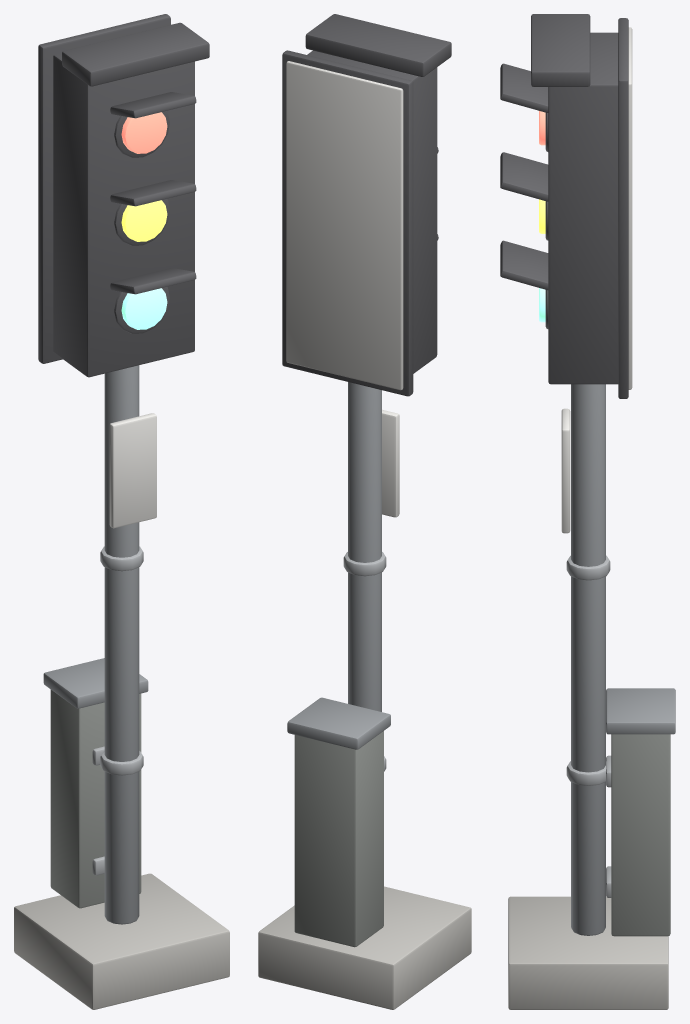
Rendered from th17_signal.glb.
3 renders of one model, left to right at view 1: azimuth 30°, elevation 25°; view 2: azimuth 150°, elevation 25°; view 3: azimuth 270°, elevation 25°, orthographic.
Parts seen in each view (by area): view 1: Cube.001, Cube, Cylinder, Cube.009, Cube.002, Cube.007, Cube.008, Cube.010, Cylinder.003, Cylinder.005, Cylinder.007, Cube.004 (+7 smaller); view 2: Cube.003, Cube.009, Cube, Cylinder, Cube.001, Cube.002, Cube.007, Cube.010, Cube.008, Cylinder.002; view 3: Cube.001, Cylinder, Cube, Cube.009, Cube.007, Cube.002, Cube.010, Cube.005, Cube.006, Cube.003, Cube.004, Cube.008 (+2 smaller).
Boxes of the visible parts, left/top/right/bottom form: Cube.001: left=53, top=52, right=194, bottom=377; Cube: left=14, top=873, right=229, bottom=1009; Cylinder: left=104, top=365, right=139, bottom=924; Cube.009: left=50, top=689, right=141, bottom=908; Cube.002: left=38, top=14, right=170, bottom=363; Cube.007: left=62, top=22, right=209, bottom=86; Cube.008: left=109, top=413, right=156, bottom=528; Cube.010: left=43, top=658, right=148, bottom=708; Cylinder.003: left=121, top=112, right=167, bottom=153; Cylinder.005: left=121, top=200, right=167, bottom=241; Cylinder.007: left=121, top=288, right=167, bottom=329; Cube.004: left=110, top=92, right=196, bottom=118; Cube.003: left=286, top=61, right=403, bottom=390; Cube.009: left=294, top=731, right=383, bottom=947; Cube: left=258, top=886, right=471, bottom=1009; Cylinder: left=348, top=382, right=381, bottom=711; Cube.001: left=307, top=50, right=437, bottom=373; Cube.002: left=282, top=50, right=413, bottom=396; Cube.007: left=305, top=14, right=451, bottom=76; Cube.010: left=287, top=697, right=390, bottom=749; Cube.008: left=382, top=409, right=399, bottom=517; Cylinder.002: left=343, top=552, right=386, bottom=576; Cube.001: left=548, top=32, right=618, bottom=384; Cylinder: left=571, top=384, right=605, bottom=935; Cube: left=508, top=896, right=668, bottom=1009; Cube.009: left=611, top=734, right=670, bottom=936; Cube.007: left=531, top=14, right=590, bottom=86; Cube.002: left=618, top=18, right=628, bottom=398; Cube.010: left=606, top=688, right=675, bottom=734; Cube.005: left=500, top=152, right=548, bottom=201; Cube.006: left=500, top=240, right=548, bottom=290; Cube.003: left=628, top=27, right=632, bottom=389; Cube.004: left=500, top=63, right=548, bottom=112; Cube.008: left=561, top=408, right=570, bottom=533.
Size of the model in its own units: 0.92 by 5.91 by 1.01.
